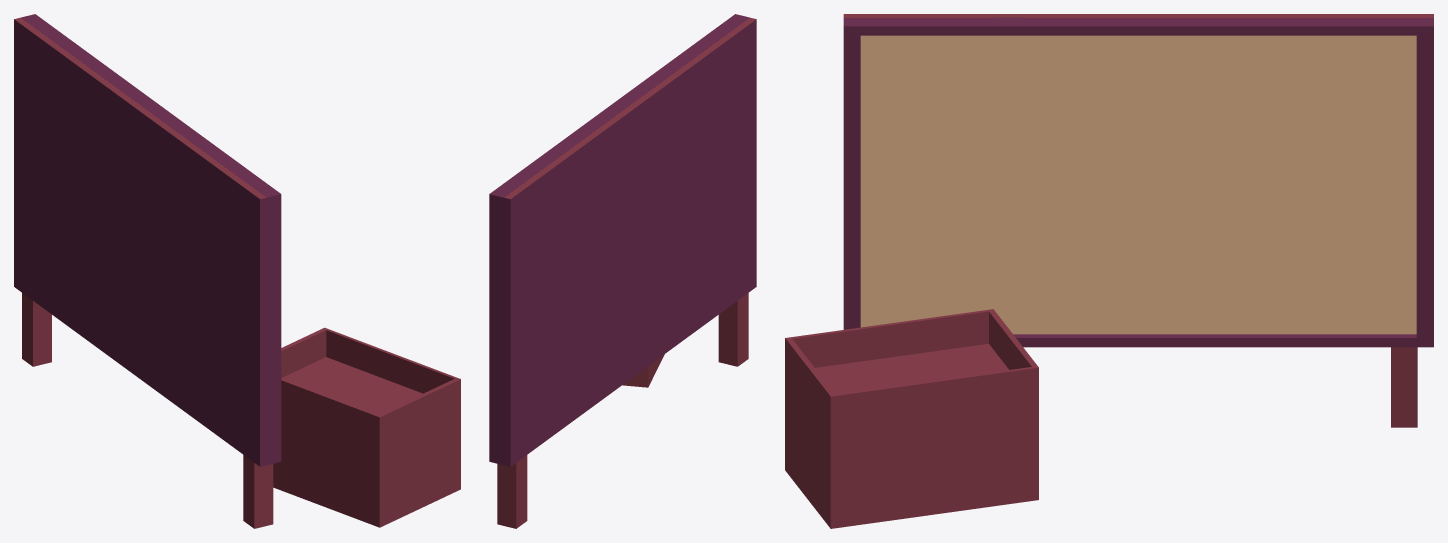
File: clueboard.glb
The picture shows the model from 3 angles, left to right: view 1: azimuth 30°, elevation 25°; view 2: azimuth 150°, elevation 25°; view 3: azimuth 270°, elevation 25°; orthographic projection. The views are drawn at different scales.
Parts seen in each view (by area): view 1: Board, Cube, Legs; view 2: Board, Legs, Cube; view 3: Board, Cube, Legs.
Part boxes in pixels (<box>): Board: <box>14,14,281,466</box>; Cube: <box>273,327,460,527</box>; Legs: <box>22,293,273,528</box>; Board: <box>489,14,756,466</box>; Legs: <box>497,293,748,528</box>; Cube: <box>622,354,664,387</box>; Board: <box>843,14,1433,347</box>; Cube: <box>785,309,1038,528</box>; Legs: <box>1391,347,1417,427</box>.
Bounding box in the file's own units: 1.83 × 3 × 4.4.
Materials: 1 (1 with a texture image).
